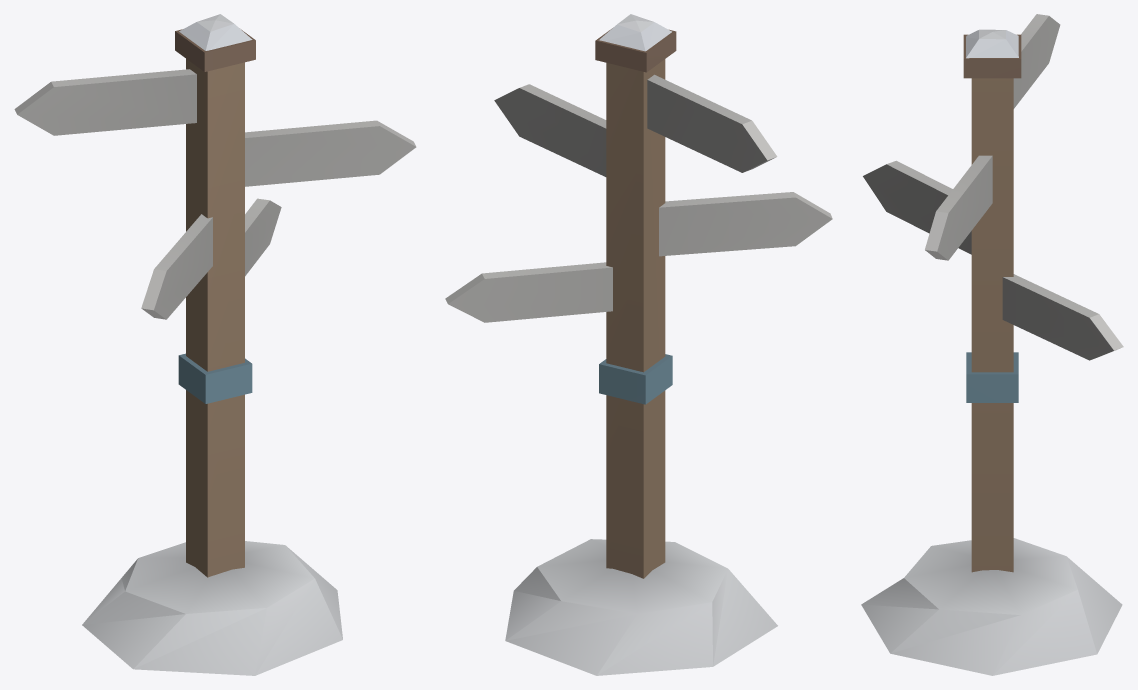
The model's file is finger.lod1.glb.
3 renders of one model, left to right at view 1: azimuth 30°, elevation 25°; view 2: azimuth 150°, elevation 25°; view 3: azimuth 270°, elevation 25°, orthographic. The views are drawn at different scales.
Size of the model in its own units: 1.46 by 2.46 by 1.
